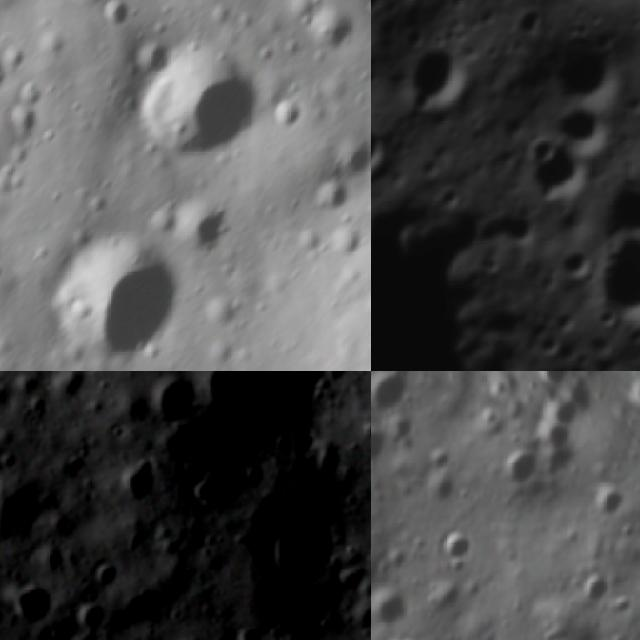crater: (34, 230, 178, 356), (186, 371, 346, 477), (124, 38, 259, 157), (397, 35, 491, 126), (267, 515, 360, 599), (583, 213, 640, 345), (546, 36, 624, 116), (526, 145, 598, 208), (594, 155, 640, 253), (544, 101, 620, 160), (0, 479, 52, 557), (148, 372, 202, 433), (489, 439, 546, 496), (288, 8, 355, 52), (114, 458, 162, 516), (15, 586, 66, 639), (371, 577, 416, 635), (432, 520, 478, 570), (371, 371, 415, 421), (179, 205, 230, 248), (371, 112, 398, 188), (572, 567, 614, 613), (554, 245, 597, 288), (586, 481, 629, 524), (73, 599, 120, 638), (509, 1, 551, 44), (395, 18, 439, 58), (92, 559, 128, 601), (6, 100, 45, 138), (496, 210, 536, 246), (312, 178, 351, 211), (521, 131, 558, 165), (100, 0, 136, 34), (532, 330, 566, 363), (548, 305, 580, 336), (371, 421, 391, 470), (278, 95, 302, 129), (518, 255, 546, 281)
